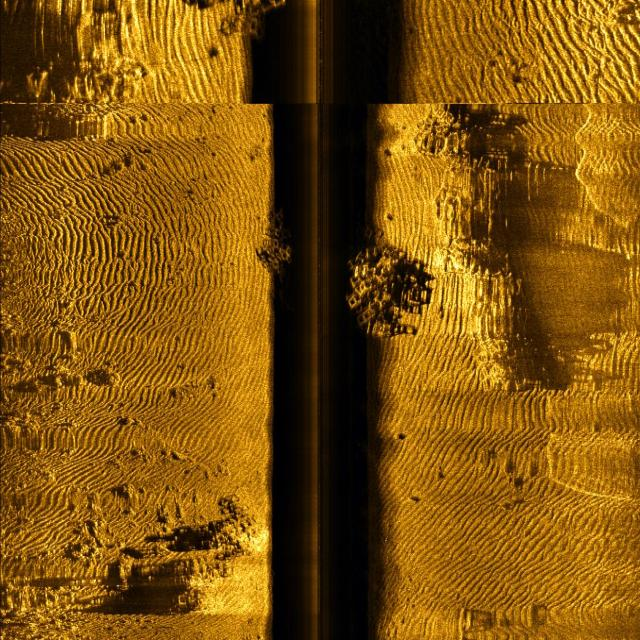artificial reef: (346, 228, 424, 342), (252, 198, 308, 293)
